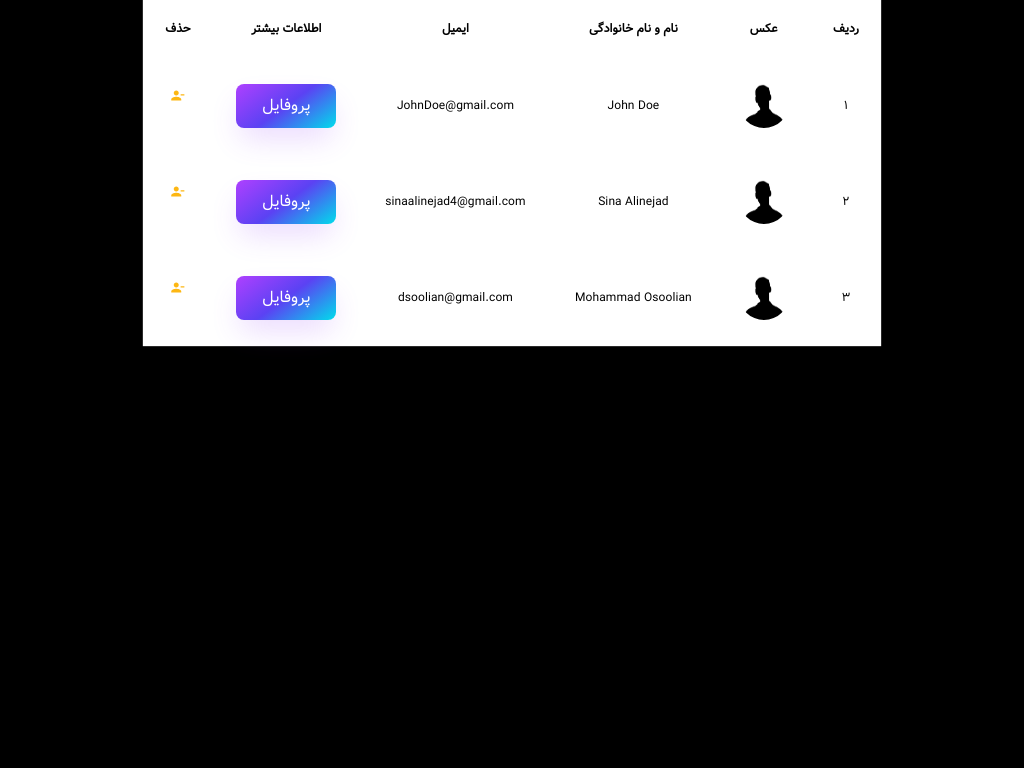
Test: it opens a Delete Dialog for removing specified member
Step 1. Click the button with id "open_remove_dialog" → point(178, 99), box left=170, top=88, right=185, bottom=110
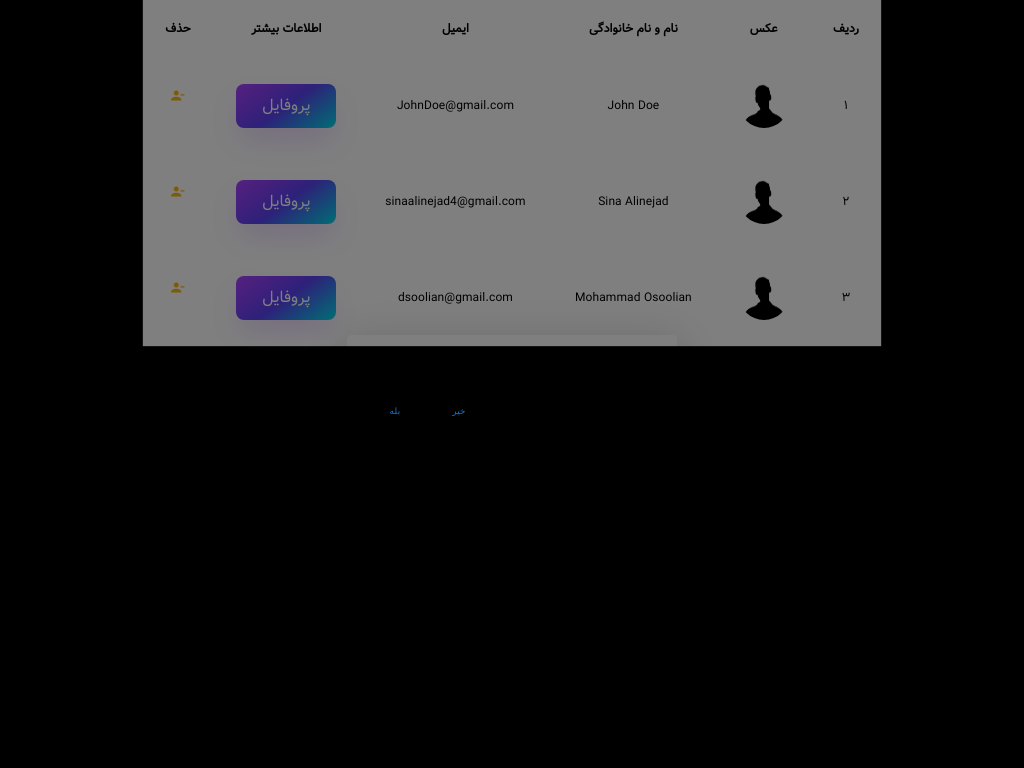
Expected: the button "بله" is shown, left=363, top=398, right=427, bottom=425
Expected: the button "خیر" is shown, left=427, top=398, right=491, bottom=425
